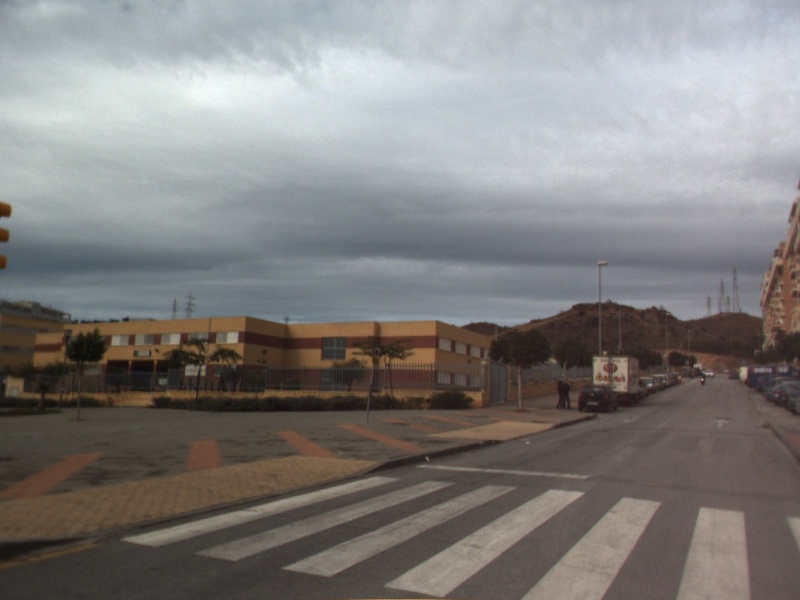STRAIGHT: (711, 416, 732, 430)
